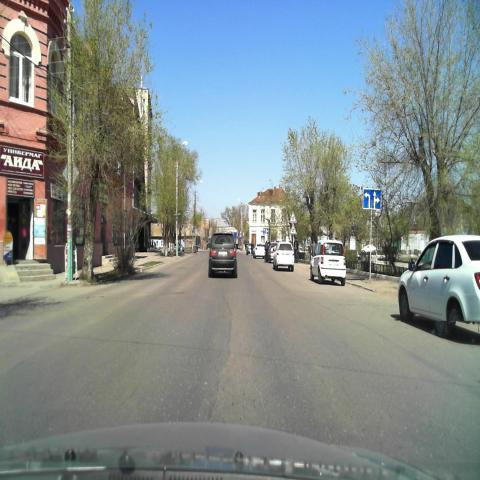1_20_3: (290, 211, 298, 224)
1_21: (289, 223, 298, 235)
5_15_2_2: (363, 189, 382, 209)
